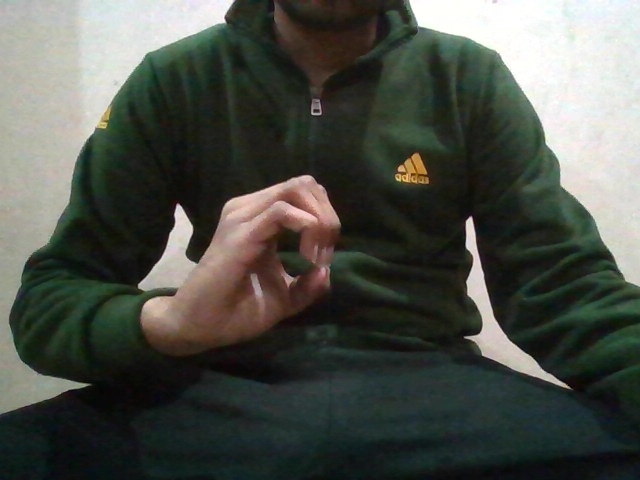O: (203, 176, 334, 314)
